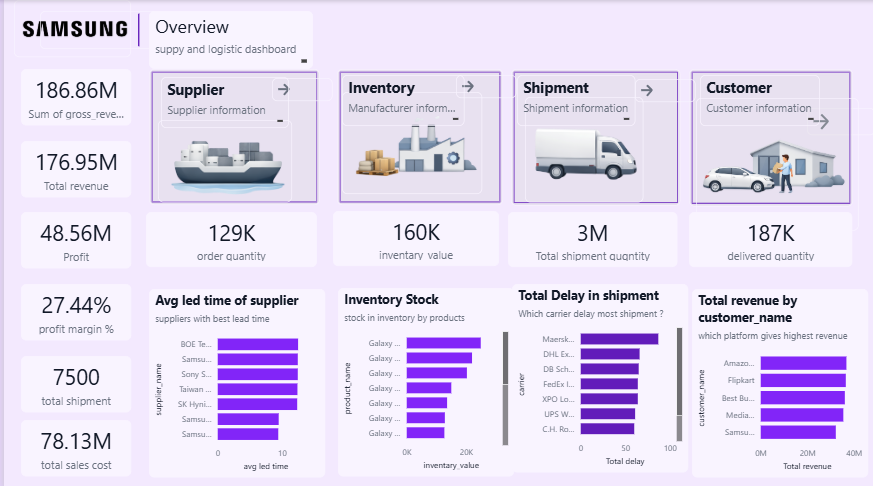

Layout of this report page (visuals, bound fields, positions):
{"tool":"powerbi","page":{"name":"Page 1","canvas":[1280,720],"ordinal":0},"visuals":[{"type":"shape","box":[213.5,102.1,251.2,199.8],"z":0},{"type":"actionButton","box":[1180.1,158.3,100.1,40.3],"z":0},{"type":"card","fields":{"Values":["TableMeasures.Total revenue"]},"box":[24.6,207,162.3,82.7],"z":0,"group":"g1"},{"type":"image","box":[14.8,0,172.1,83.6],"z":1000},{"type":"shape","box":[489.5,102.1,243.9,199.8],"z":1000},{"type":"card","fields":{"Values":["TableMeasures.Profit"]},"box":[24.6,312.4,162.3,82.7],"z":1000,"group":"g1"},{"type":"shape","box":[52.5,16.4,290.2,55.7],"z":2000},{"type":"shape","box":[745.5,101.6,248.8,200.9],"z":2000},{"type":"card","fields":{"Values":["TableMeasures.profit margin %"]},"box":[24.6,417.8,162.3,82.7],"z":2000,"group":"g1"},{"type":"textbox","title":"Overview","box":[213.1,16.4,241,85.2],"z":3000},{"type":"shape","box":[1006.6,101.6,241,201.6],"z":3000},{"type":"card","fields":{"Values":["TableMeasures.total shipment"]},"box":[24.6,523.2,162.3,82.7],"z":3000,"group":"g1"},{"type":"card","fields":{"Values":["Sum(fact_sales.gross_revenue)"]},"box":[24.6,101.6,162.3,82.7],"z":4000,"group":"g1"},{"type":"image","box":[1016.4,144.3,239.3,195.1],"z":4000},{"type":"clusteredBarChart","title":"Avg led time of supplier","fields":{"Y":["TableMeasures.avg led time"],"Category":["dim_supplier.supplier_name"]},"box":[213.1,424.6,259,277],"z":4000},{"type":"image","box":[226,176.6,197.5,121.2],"z":5000},{"type":"clusteredBarChart","title":"Inventory Stock","fields":{"Category":["dim_product.product_name"],"Y":["TableMeasures.inventary_value"]},"box":[490.2,423,259,277],"z":5000},{"type":"card","fields":{"Values":["TableMeasures.total sales cost"]},"box":[24.6,617.3,162.3,82.7],"z":5000,"group":"g1"},{"type":"image","box":[496.4,135.1,206.4,149.9],"z":6000},{"type":"clusteredBarChart","title":"Total Delay in shipment","fields":{"Category":["fact_shipment.carrier"],"Y":["TableMeasures.Total delay"]},"box":[745.9,418,259,277],"z":6000},{"type":"image","box":[765,143.1,174.3,154.7],"z":7000},{"type":"clusteredBarChart","fields":{"Y":["TableMeasures.Total revenue"],"Category":["dim_customer.customer_name"]},"box":[1011.5,424.6,259,277],"z":7000},{"type":"group","id":"g1","title":"Group 1","box":[24.6,101.6,162.3,598.4],"z":8000},{"type":"actionButton","box":[394.2,114.2,89.1,33.9],"z":8000},{"type":"actionButton","box":[664.3,110.4,89.1,33.9],"z":9000},{"type":"actionButton","box":[927.8,116.7,89.1,33.9],"z":10000},{"type":"textbox","title":"Supplier","box":[230.6,112.9,187.6,75.3],"z":11000},{"type":"textbox","title":"Inventory","box":[496.4,109.6,179.7,74.9],"z":12000},{"type":"textbox","title":"Shipment","box":[753.5,110.4,174.3,75.3],"z":13000},{"type":"textbox","title":"Customer","box":[1022.3,110.4,175.6,75.3],"z":14000},{"type":"card","fields":{"Values":["TableMeasures.order quantity"]},"box":[208.2,312.1,250.8,81.3],"z":15000},{"type":"card","fields":{"Values":["TableMeasures.inventary_value"]},"box":[483.9,310.5,243.7,81.3],"z":16000},{"type":"card","fields":{"Values":["TableMeasures.Total shipment quqntity"]},"box":[740.1,312.1,249.1,81.3],"z":17000},{"type":"card","fields":{"Values":["TableMeasures.delivered quantity"]},"box":[1007,312.1,240.2,81.3],"z":18000}]}

Visuals, with their boxes in screenshot pixels (x1, y1, x2, y2), scaled from the page's 1280x720 canvas onto the 873x486 screenshot:
shape: {"x1": 146, "y1": 69, "x2": 317, "y2": 204}
actionButton: {"x1": 805, "y1": 107, "x2": 872, "y2": 134}
card - TableMeasures.Total revenue: {"x1": 17, "y1": 140, "x2": 127, "y2": 196}
image: {"x1": 10, "y1": 0, "x2": 127, "y2": 56}
shape: {"x1": 334, "y1": 69, "x2": 500, "y2": 204}
card - TableMeasures.Profit: {"x1": 17, "y1": 211, "x2": 127, "y2": 267}
shape: {"x1": 36, "y1": 11, "x2": 234, "y2": 49}
shape: {"x1": 508, "y1": 69, "x2": 678, "y2": 204}
card - TableMeasures.profit margin %: {"x1": 17, "y1": 282, "x2": 127, "y2": 338}
"Overview" textbox: {"x1": 145, "y1": 11, "x2": 310, "y2": 69}
shape: {"x1": 687, "y1": 69, "x2": 851, "y2": 205}
card - TableMeasures.total shipment: {"x1": 17, "y1": 353, "x2": 127, "y2": 409}
card - Sum(fact_sales.gross_revenue): {"x1": 17, "y1": 69, "x2": 127, "y2": 124}
image: {"x1": 693, "y1": 97, "x2": 856, "y2": 229}
"Avg led time of supplier" clusteredBarChart: {"x1": 145, "y1": 287, "x2": 322, "y2": 474}
image: {"x1": 154, "y1": 119, "x2": 289, "y2": 201}
"Inventory Stock" clusteredBarChart: {"x1": 334, "y1": 286, "x2": 511, "y2": 473}
card - TableMeasures.total sales cost: {"x1": 17, "y1": 417, "x2": 127, "y2": 473}
image: {"x1": 339, "y1": 91, "x2": 479, "y2": 192}
"Total Delay in shipment" clusteredBarChart: {"x1": 509, "y1": 282, "x2": 685, "y2": 469}
image: {"x1": 522, "y1": 97, "x2": 641, "y2": 201}
clusteredBarChart - TableMeasures.Total revenue x dim_customer.customer_name: {"x1": 690, "y1": 287, "x2": 867, "y2": 474}
"Group 1" group: {"x1": 17, "y1": 69, "x2": 127, "y2": 473}
actionButton: {"x1": 269, "y1": 77, "x2": 330, "y2": 100}
actionButton: {"x1": 453, "y1": 75, "x2": 514, "y2": 97}
actionButton: {"x1": 633, "y1": 79, "x2": 694, "y2": 102}
"Supplier" textbox: {"x1": 157, "y1": 76, "x2": 285, "y2": 127}
"Inventory" textbox: {"x1": 339, "y1": 74, "x2": 461, "y2": 125}
"Shipment" textbox: {"x1": 514, "y1": 75, "x2": 633, "y2": 125}
"Customer" textbox: {"x1": 697, "y1": 75, "x2": 817, "y2": 125}
card - TableMeasures.order quantity: {"x1": 142, "y1": 211, "x2": 313, "y2": 266}
card - TableMeasures.inventary_value: {"x1": 330, "y1": 210, "x2": 496, "y2": 264}
card - TableMeasures.Total shipment quqntity: {"x1": 505, "y1": 211, "x2": 675, "y2": 266}
card - TableMeasures.delivered quantity: {"x1": 687, "y1": 211, "x2": 851, "y2": 266}
